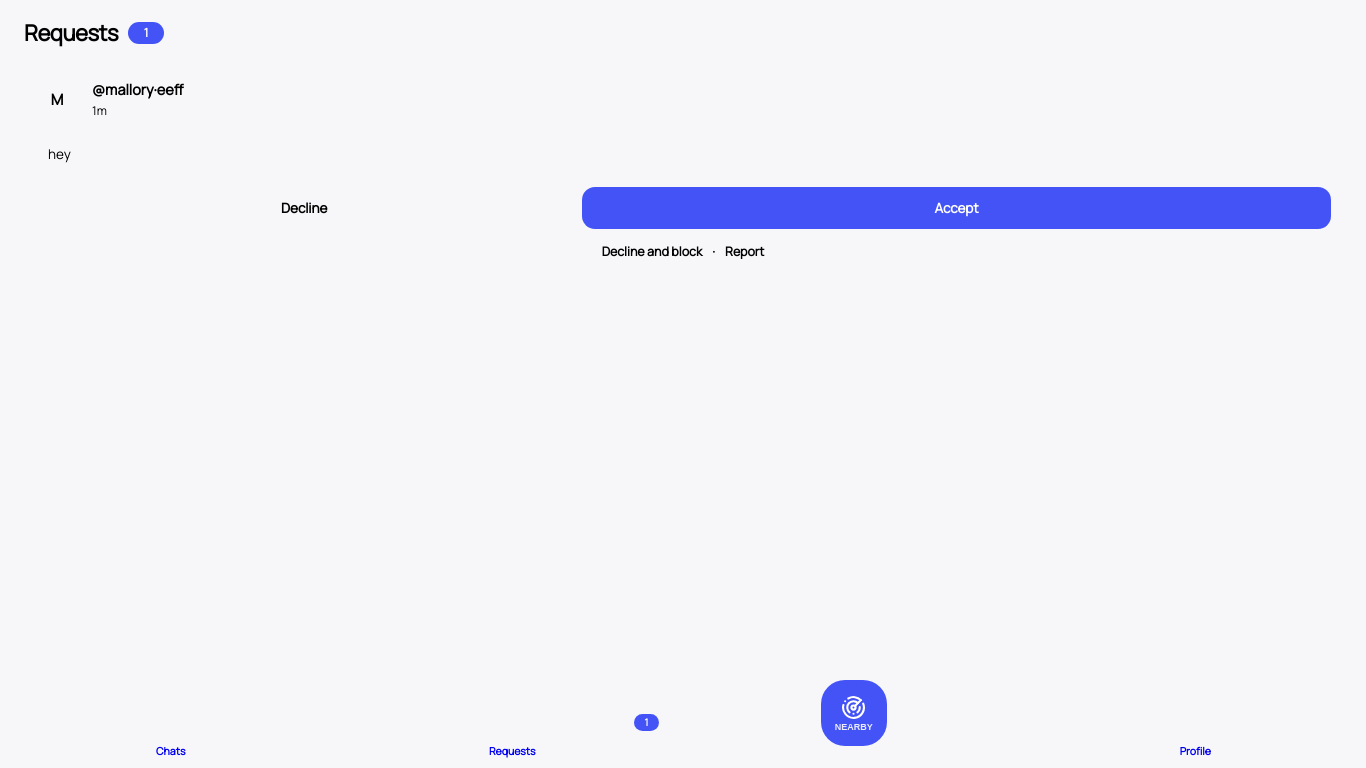
Test case: RequestsScreen — reporting a request › reports the sender, and their request leaves the list
Click the button with aria-label "Report @mallory·eeff".
click(745, 252)  # box x1=719 y1=241 x2=770 y2=262
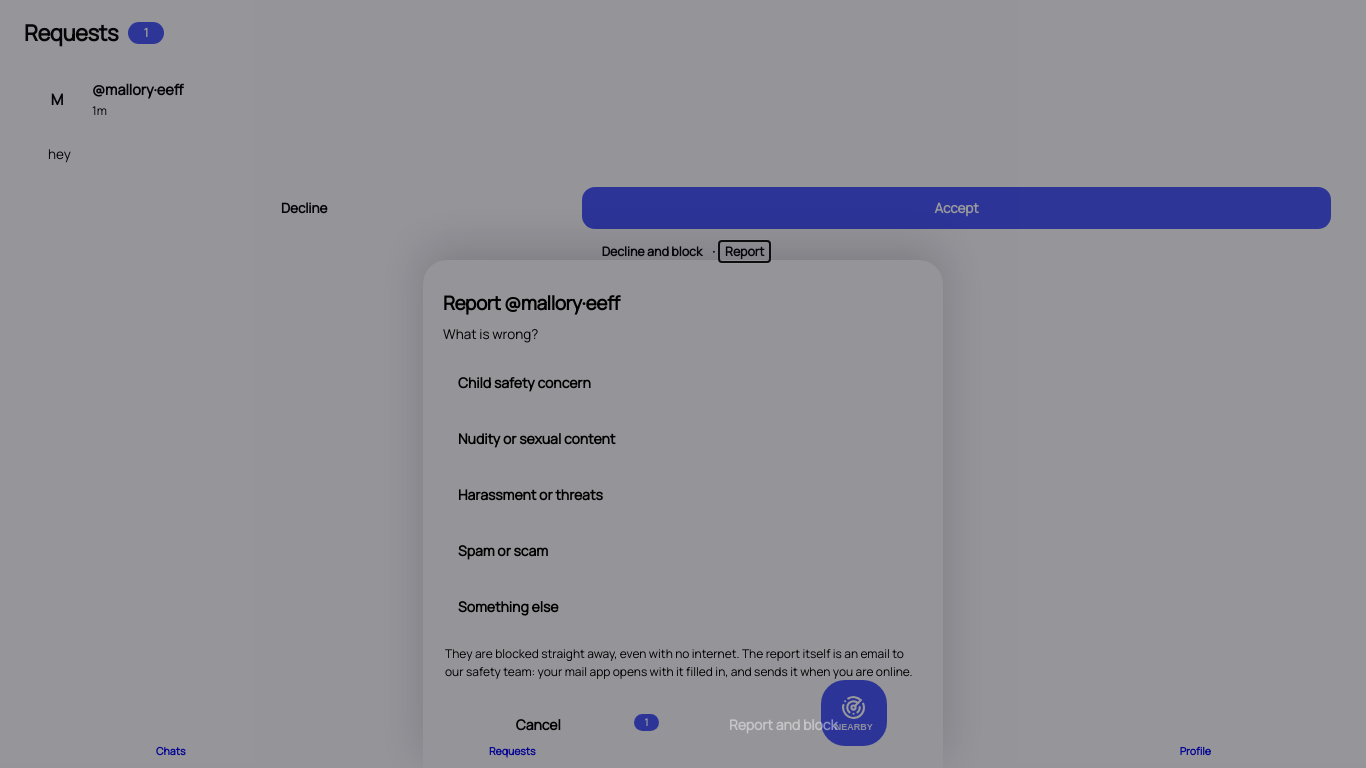
Click the radio button labelled "Child safety concern".
click(524, 383)  # box x1=443 y1=359 x2=923 y2=407
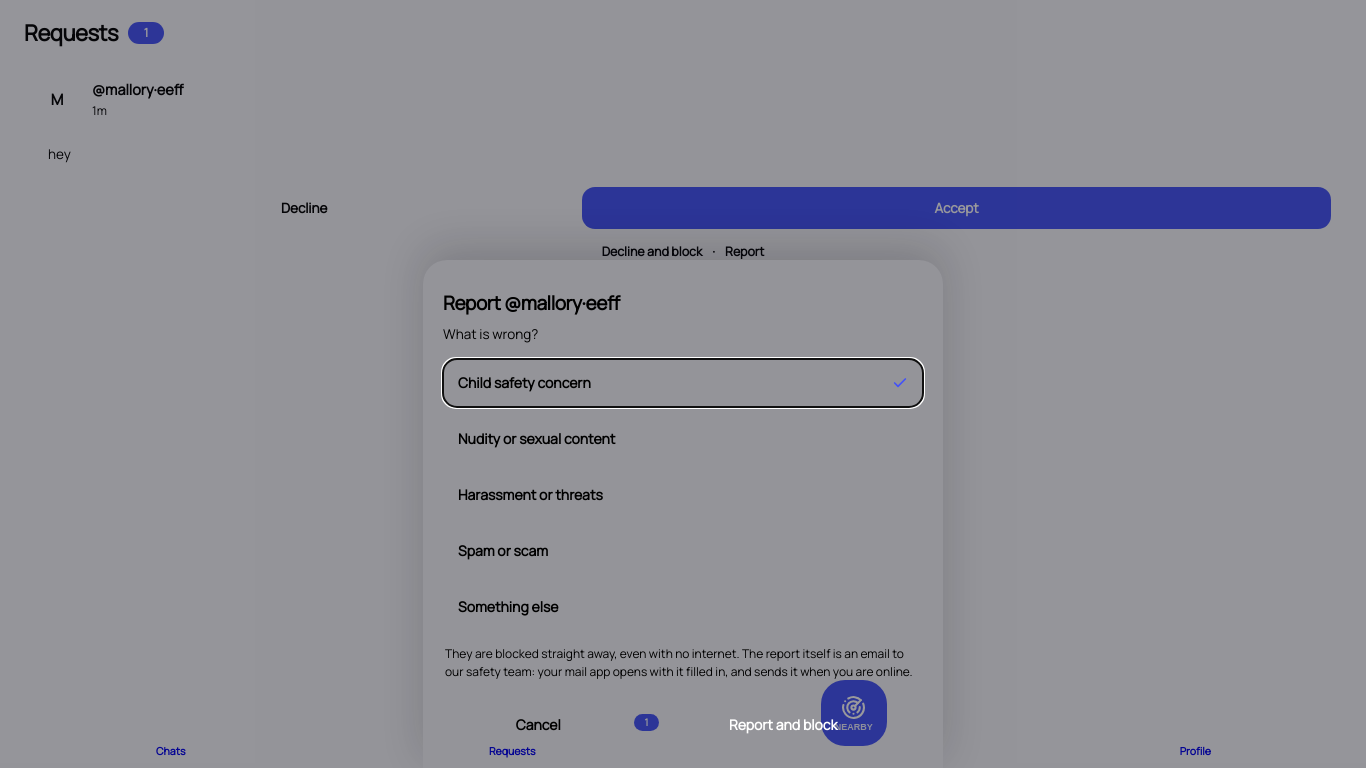
Click the button "Report and block".
click(783, 724)  # box x1=643 y1=700 x2=923 y2=748
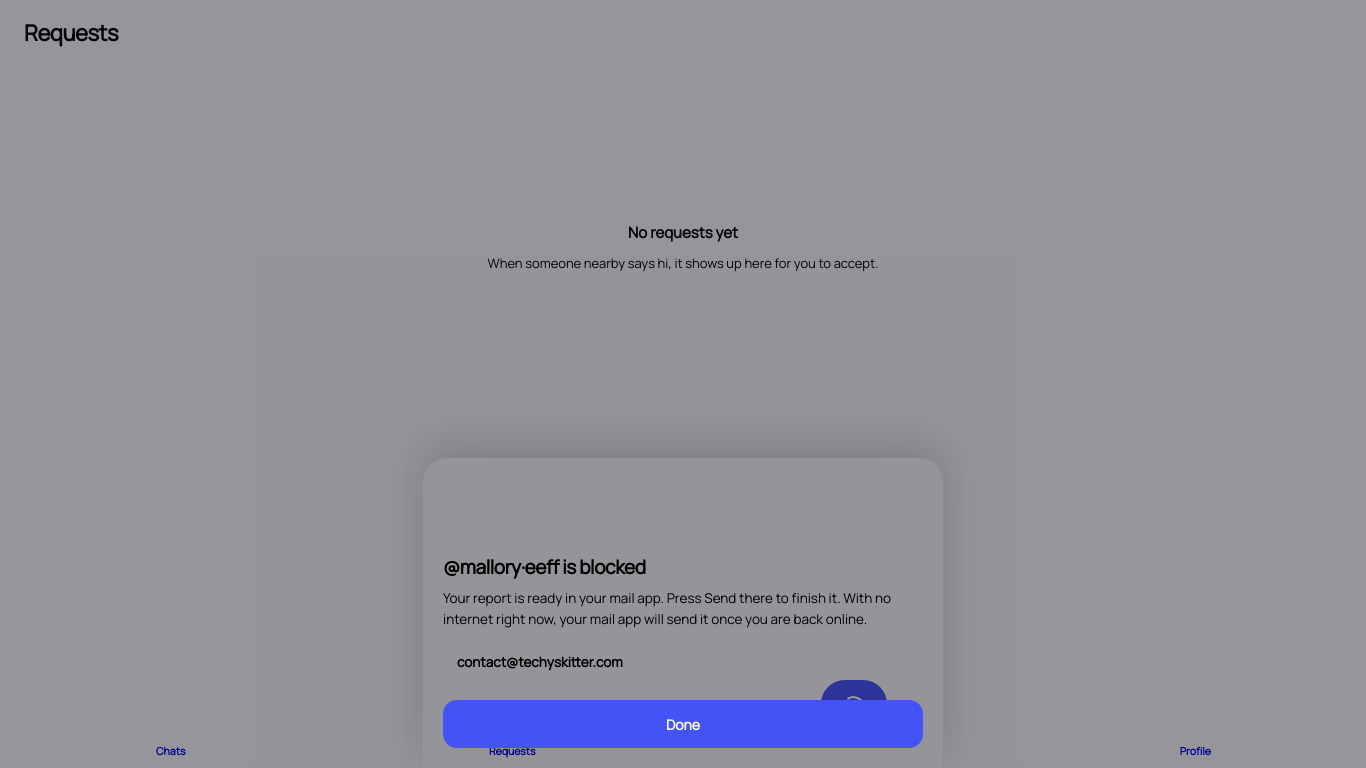
Check: the heading "@mallory·eeff is blocked" is shown, box x1=443 y1=554 x2=646 y2=580
Check: the text "No requests yet" is shown, box x1=628 y1=222 x2=738 y2=243
Click the button "Done".
click(683, 724)  # box x1=443 y1=700 x2=923 y2=748
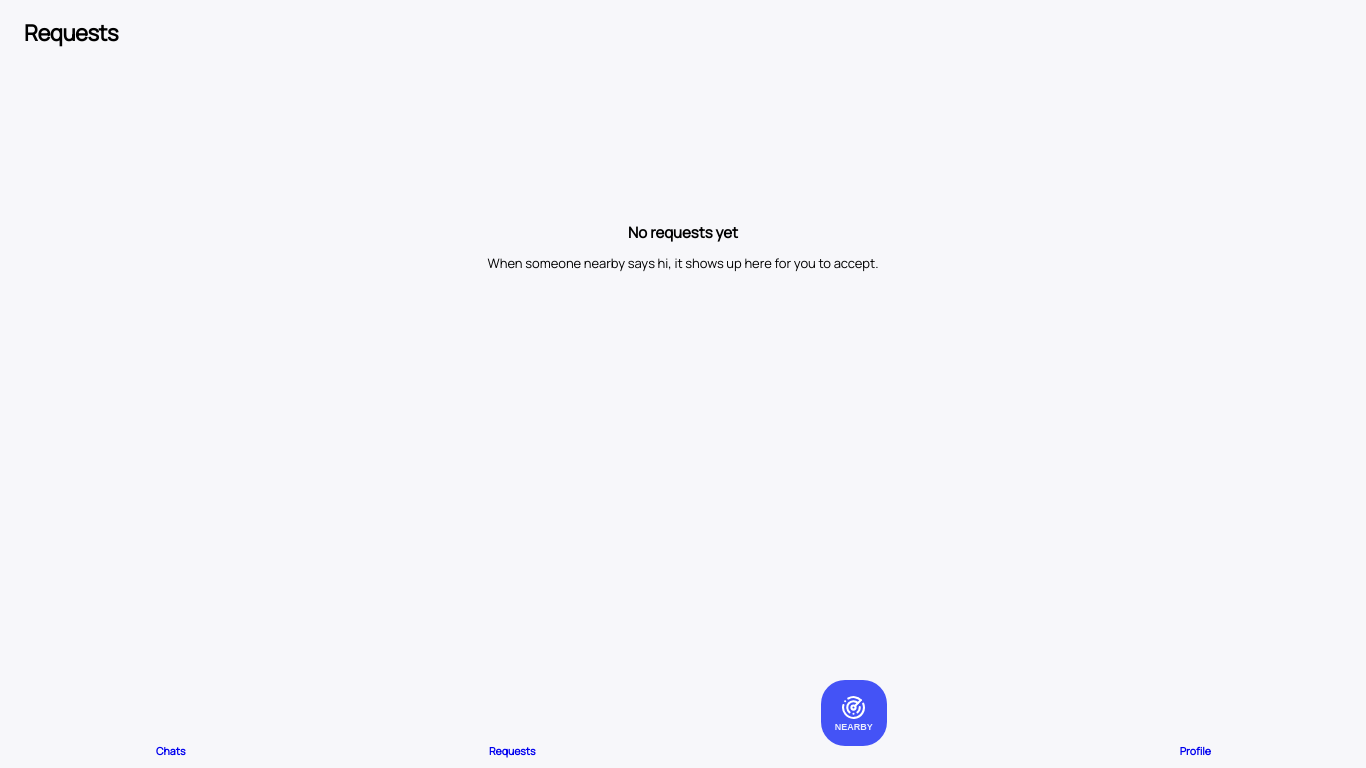
Check: the dialog is gone
